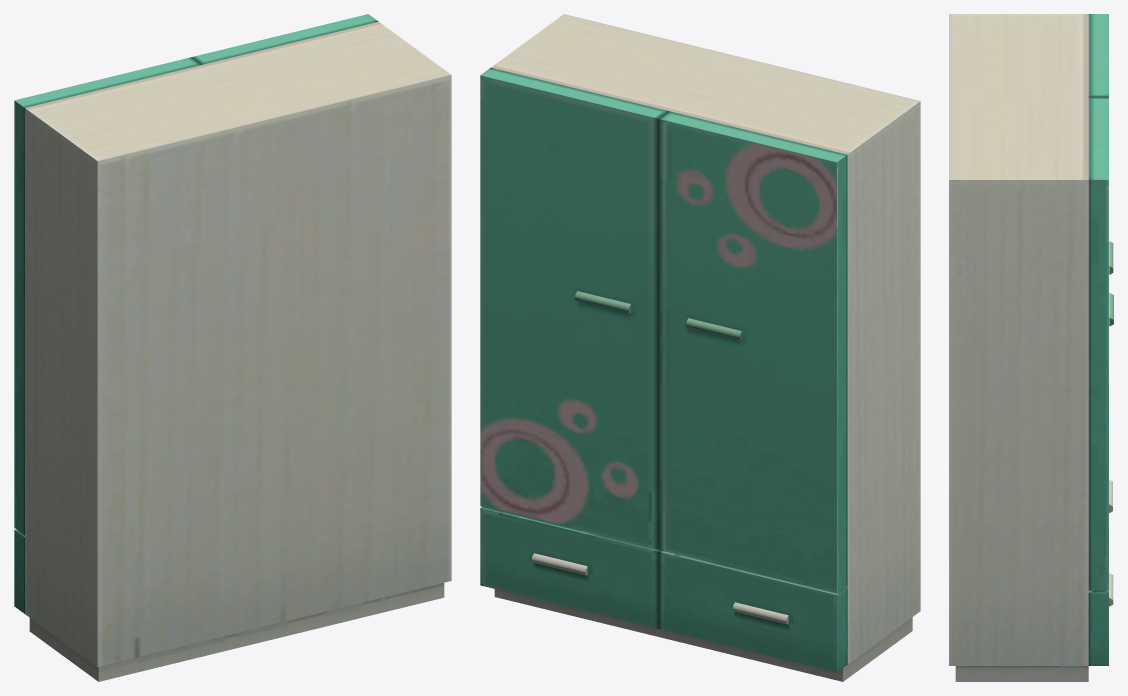
File: furni_0200517_02.FBX
3 views of the same model, side by side, from view 1: azimuth 30°, elevation 25°; view 2: azimuth 150°, elevation 25°; view 3: azimuth 270°, elevation 25° (orthographic). The views are drawn at different scales.
Visible parts, largest first — view 1: furni_0200517_02; view 2: furni_0200517_02; view 3: furni_0200517_02.
Part boxes in pixels (x1,y1,x2,y2): furni_0200517_02: (14,14,451,681); furni_0200517_02: (480,14,920,681); furni_0200517_02: (949,14,1113,681).
Size of the model in its own units: 155 by 220 by 65.18.
1 material, 1 textured.
